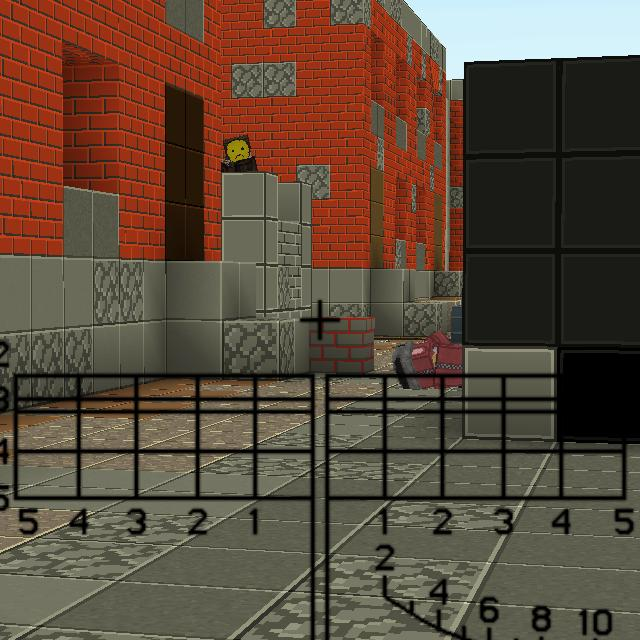enemy: (222, 133, 259, 174)
